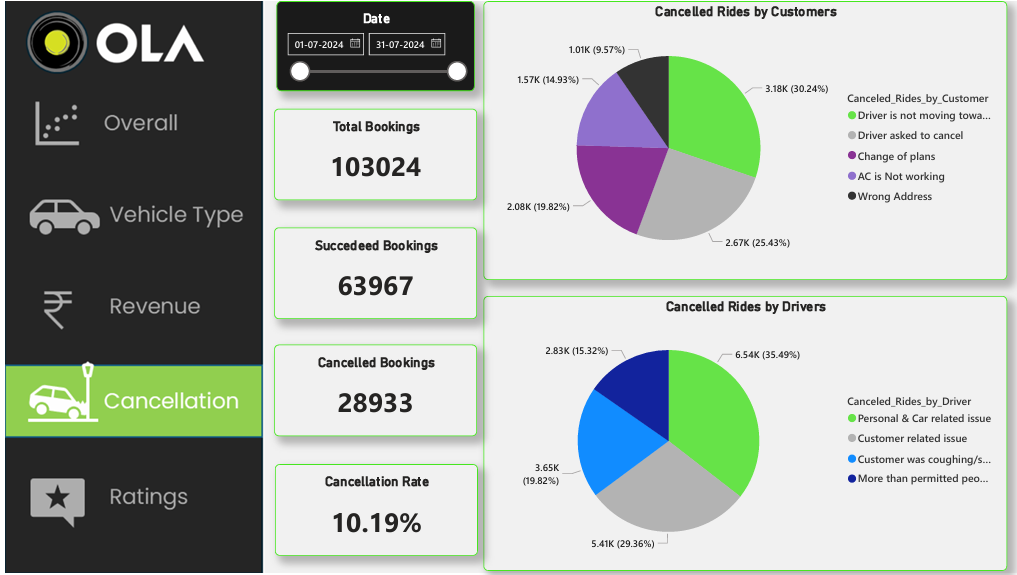

Layout of this report page (visuals, bound fields, positions):
{"tool":"powerbi","page":{"name":"Cancellation","canvas":[1280,720],"ordinal":3},"visuals":[{"type":"actionButton","box":[0,112.2,323.3,91.7],"z":0},{"type":"actionButton","box":[0,225.6,323.3,91.7],"z":1000},{"type":"actionButton","box":[0,337.8,323.3,91.7],"z":2000},{"type":"actionButton","box":[0,581.5,323.3,91.7],"z":3000},{"type":"pieChart","title":"Cancelled Rides by Customers","fields":{"Category":["OLA_Bookings.Canceled_Rides_by_Customer"],"Y":["CountNonNull(OLA_Bookings.Canceled_Rides_by_Customer)"]},"box":[601.2,0,657.5,350],"z":4000},{"type":"pieChart","title":"Cancelled Rides by Drivers","fields":{"Y":["CountNonNull(OLA_Bookings.Canceled_Rides_by_Driver)"],"Category":["OLA_Bookings.Canceled_Rides_by_Driver"]},"box":[601.2,370,657.5,345],"z":5000},{"type":"slicer","title":"Date","fields":{"Values":["OLA_Bookings.Date"]},"box":[341.2,0,248.8,112.5],"z":6000},{"type":"card","title":"Total Bookings","fields":{"Values":["CountNonNull(OLA_Bookings.Booking_ID)"]},"box":[337.5,135,255,115],"z":7000},{"type":"card","title":"Succedeed Bookings","fields":{"Values":["CountNonNull(OLA_Bookings.Booking_ID)"]},"box":[337.5,283.8,255,115],"z":8000},{"type":"card","title":"Cancelled Bookings","fields":{"Values":["CountNonNull(OLA_Bookings.Booking_ID)"]},"box":[337.5,431.2,255,115],"z":9000},{"type":"card","title":"Cancellation Rate","fields":{"Values":["OLA_Bookings.CanceledPercentage"]},"box":[338.8,581.2,255,115],"z":10000}]}

Visuals, with their boxes in screenshot pixels (x1, y1, x2, y2), scaled from the page's 1280x720 canvas onto the 1017x575 screenshot:
actionButton: bbox=[0, 90, 257, 163]
actionButton: bbox=[0, 180, 257, 253]
actionButton: bbox=[0, 270, 257, 343]
actionButton: bbox=[0, 464, 257, 538]
"Cancelled Rides by Customers" pieChart: bbox=[478, 0, 1000, 280]
"Cancelled Rides by Drivers" pieChart: bbox=[478, 295, 1000, 571]
"Date" slicer: bbox=[271, 0, 469, 90]
"Total Bookings" card: bbox=[268, 108, 471, 200]
"Succedeed Bookings" card: bbox=[268, 227, 471, 318]
"Cancelled Bookings" card: bbox=[268, 344, 471, 436]
"Cancellation Rate" card: bbox=[269, 464, 472, 556]
